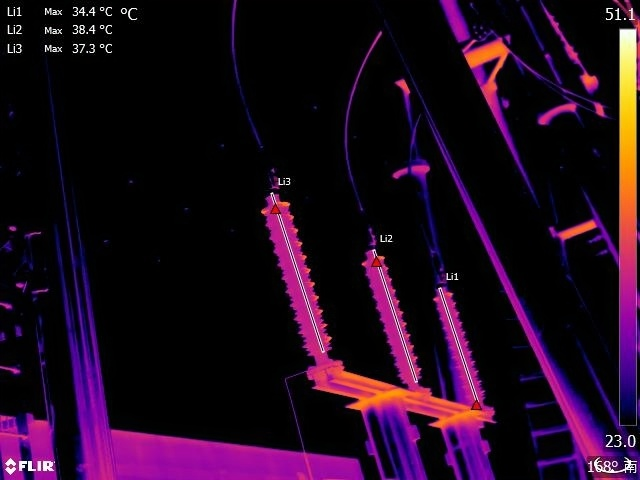lightning arrester: (262, 185, 338, 360), (364, 246, 420, 397), (433, 287, 487, 407)
